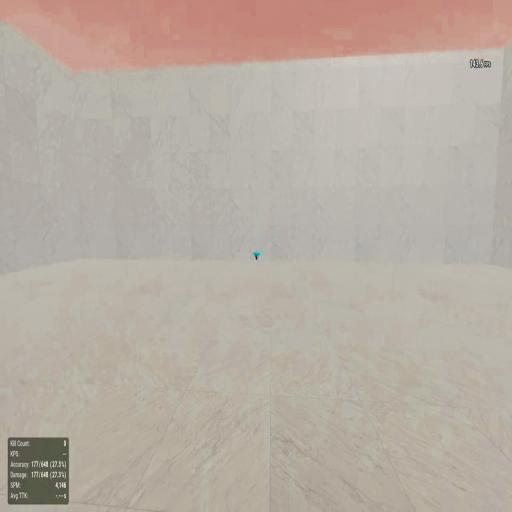Crosshair: (255, 254, 257, 258)
Target: (256, 256, 258, 260)
